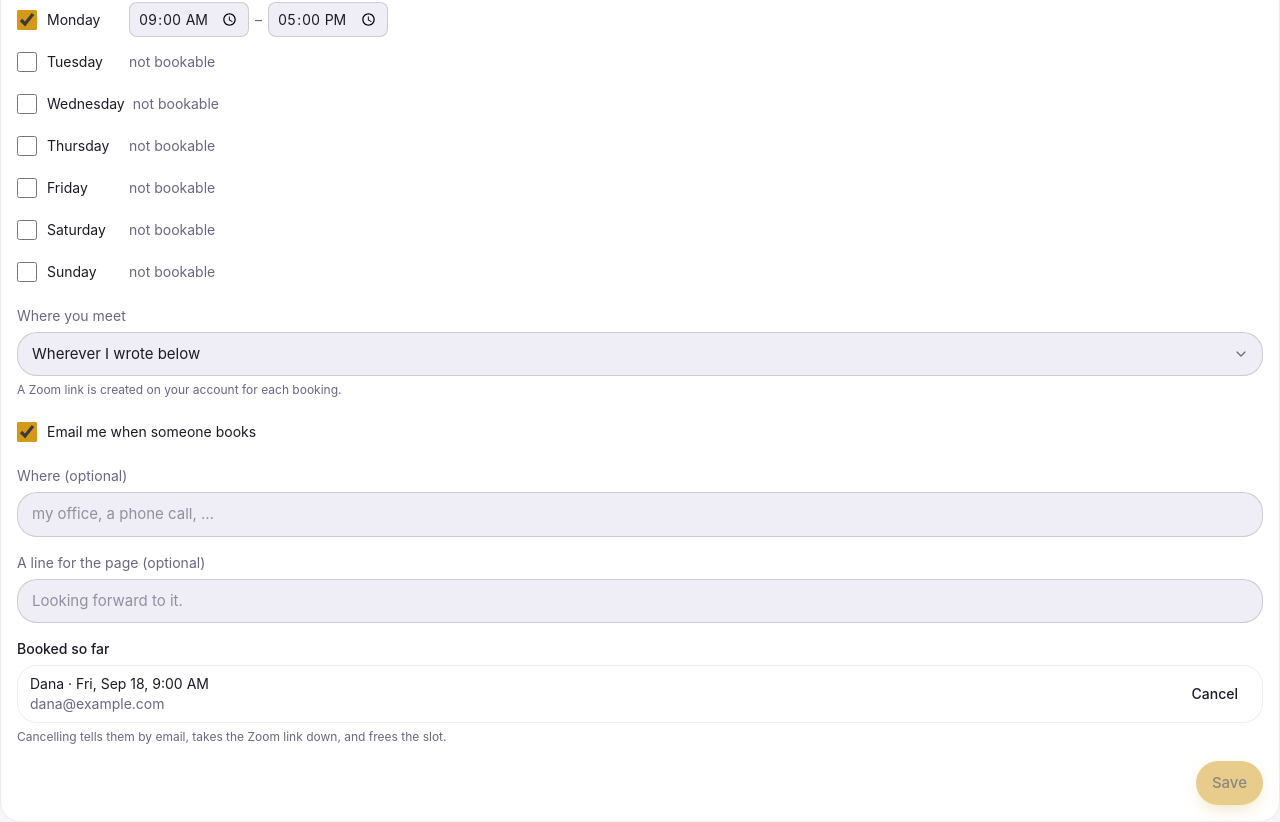
Meetings with me › cancels a booking from the host’s side, after asking
The image size is (1280, 822).
(page scrolled)
Expected: the text "Dana" is shown, [30,675,64,692]
Click the button "Cancel": (1215,694) [1180,676,1250,712]
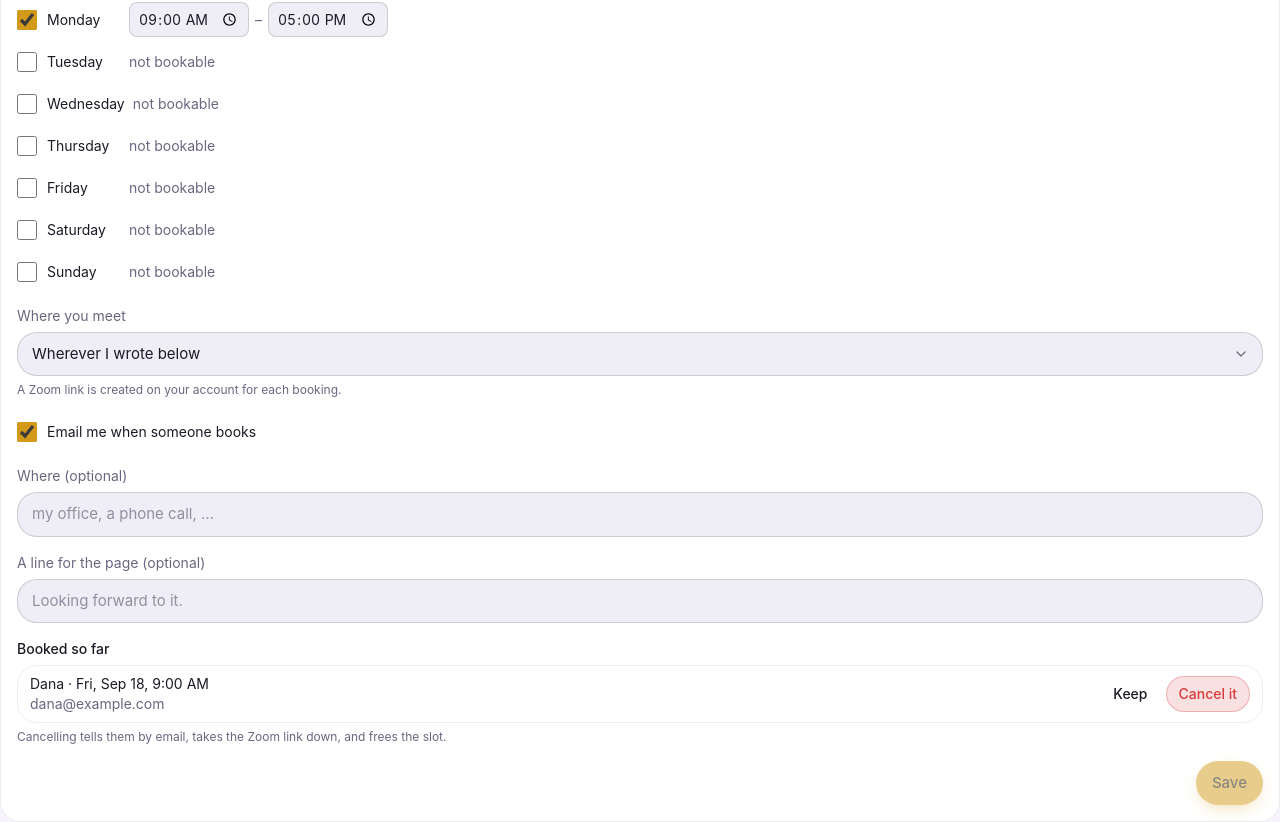
Click the button "Cancel it": (1208,694) [1166,676,1250,712]
(page scrolled)
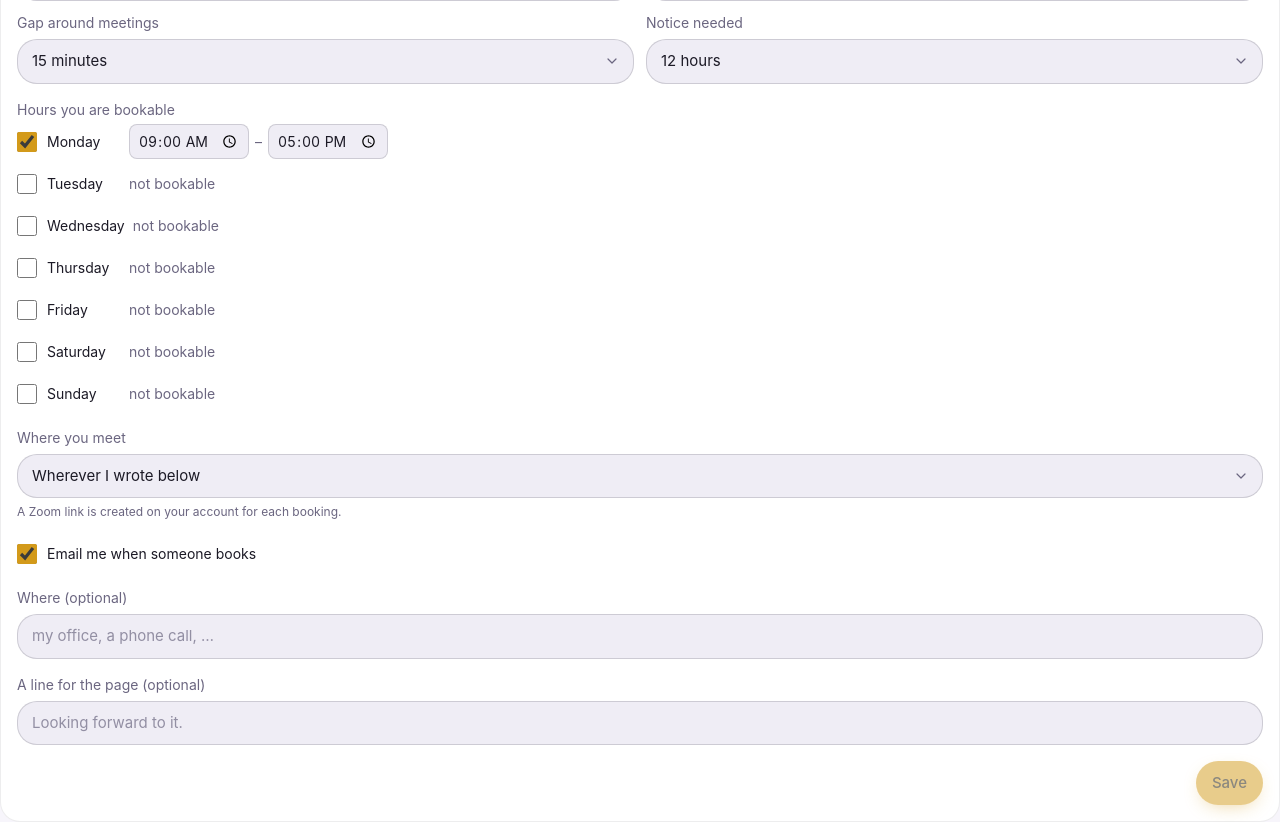
Expected: the text "Dana" is gone
